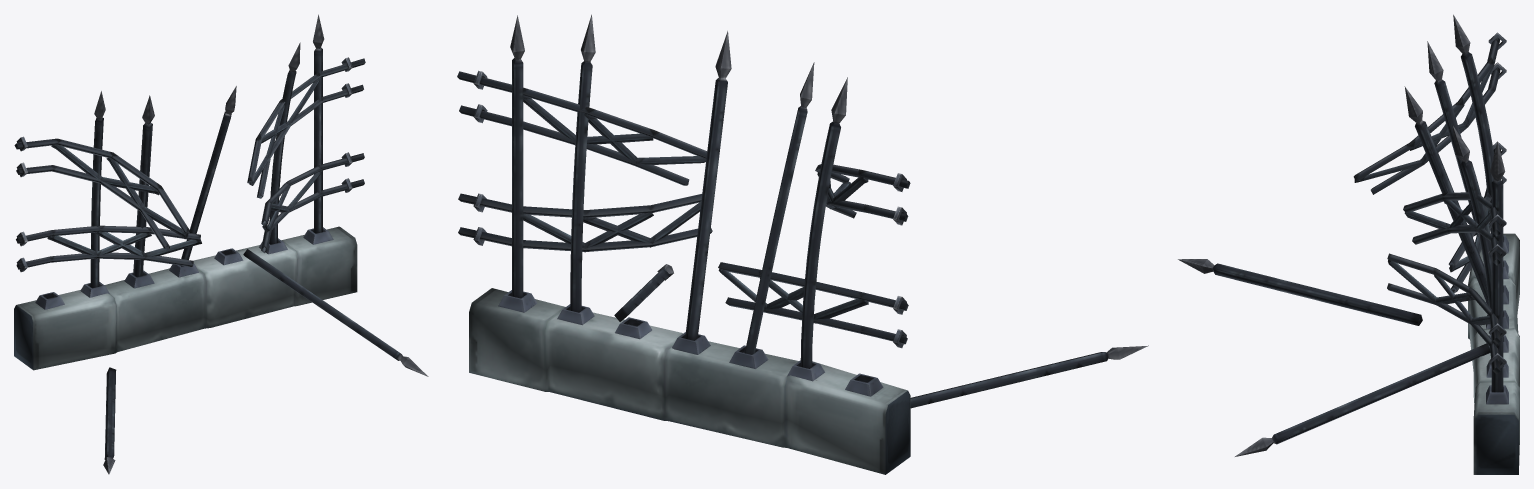
File: env_cem_verja_06.FBX
3 renders of one model, left to right at view 1: azimuth 30°, elevation 25°; view 2: azimuth 150°, elevation 25°; view 3: azimuth 270°, elevation 25°, orthographic. The views are drawn at different scales.
Parts seen in each view (by area): view 1: env_cem_verja_06; view 2: env_cem_verja_06; view 3: env_cem_verja_06.
Boxes of the visible parts, x1,y1,x2,y2 form: env_cem_verja_06: (14, 14, 428, 474); env_cem_verja_06: (457, 14, 1148, 474); env_cem_verja_06: (1178, 14, 1519, 474).
Size of the model in its own units: 727 by 491 by 477.
